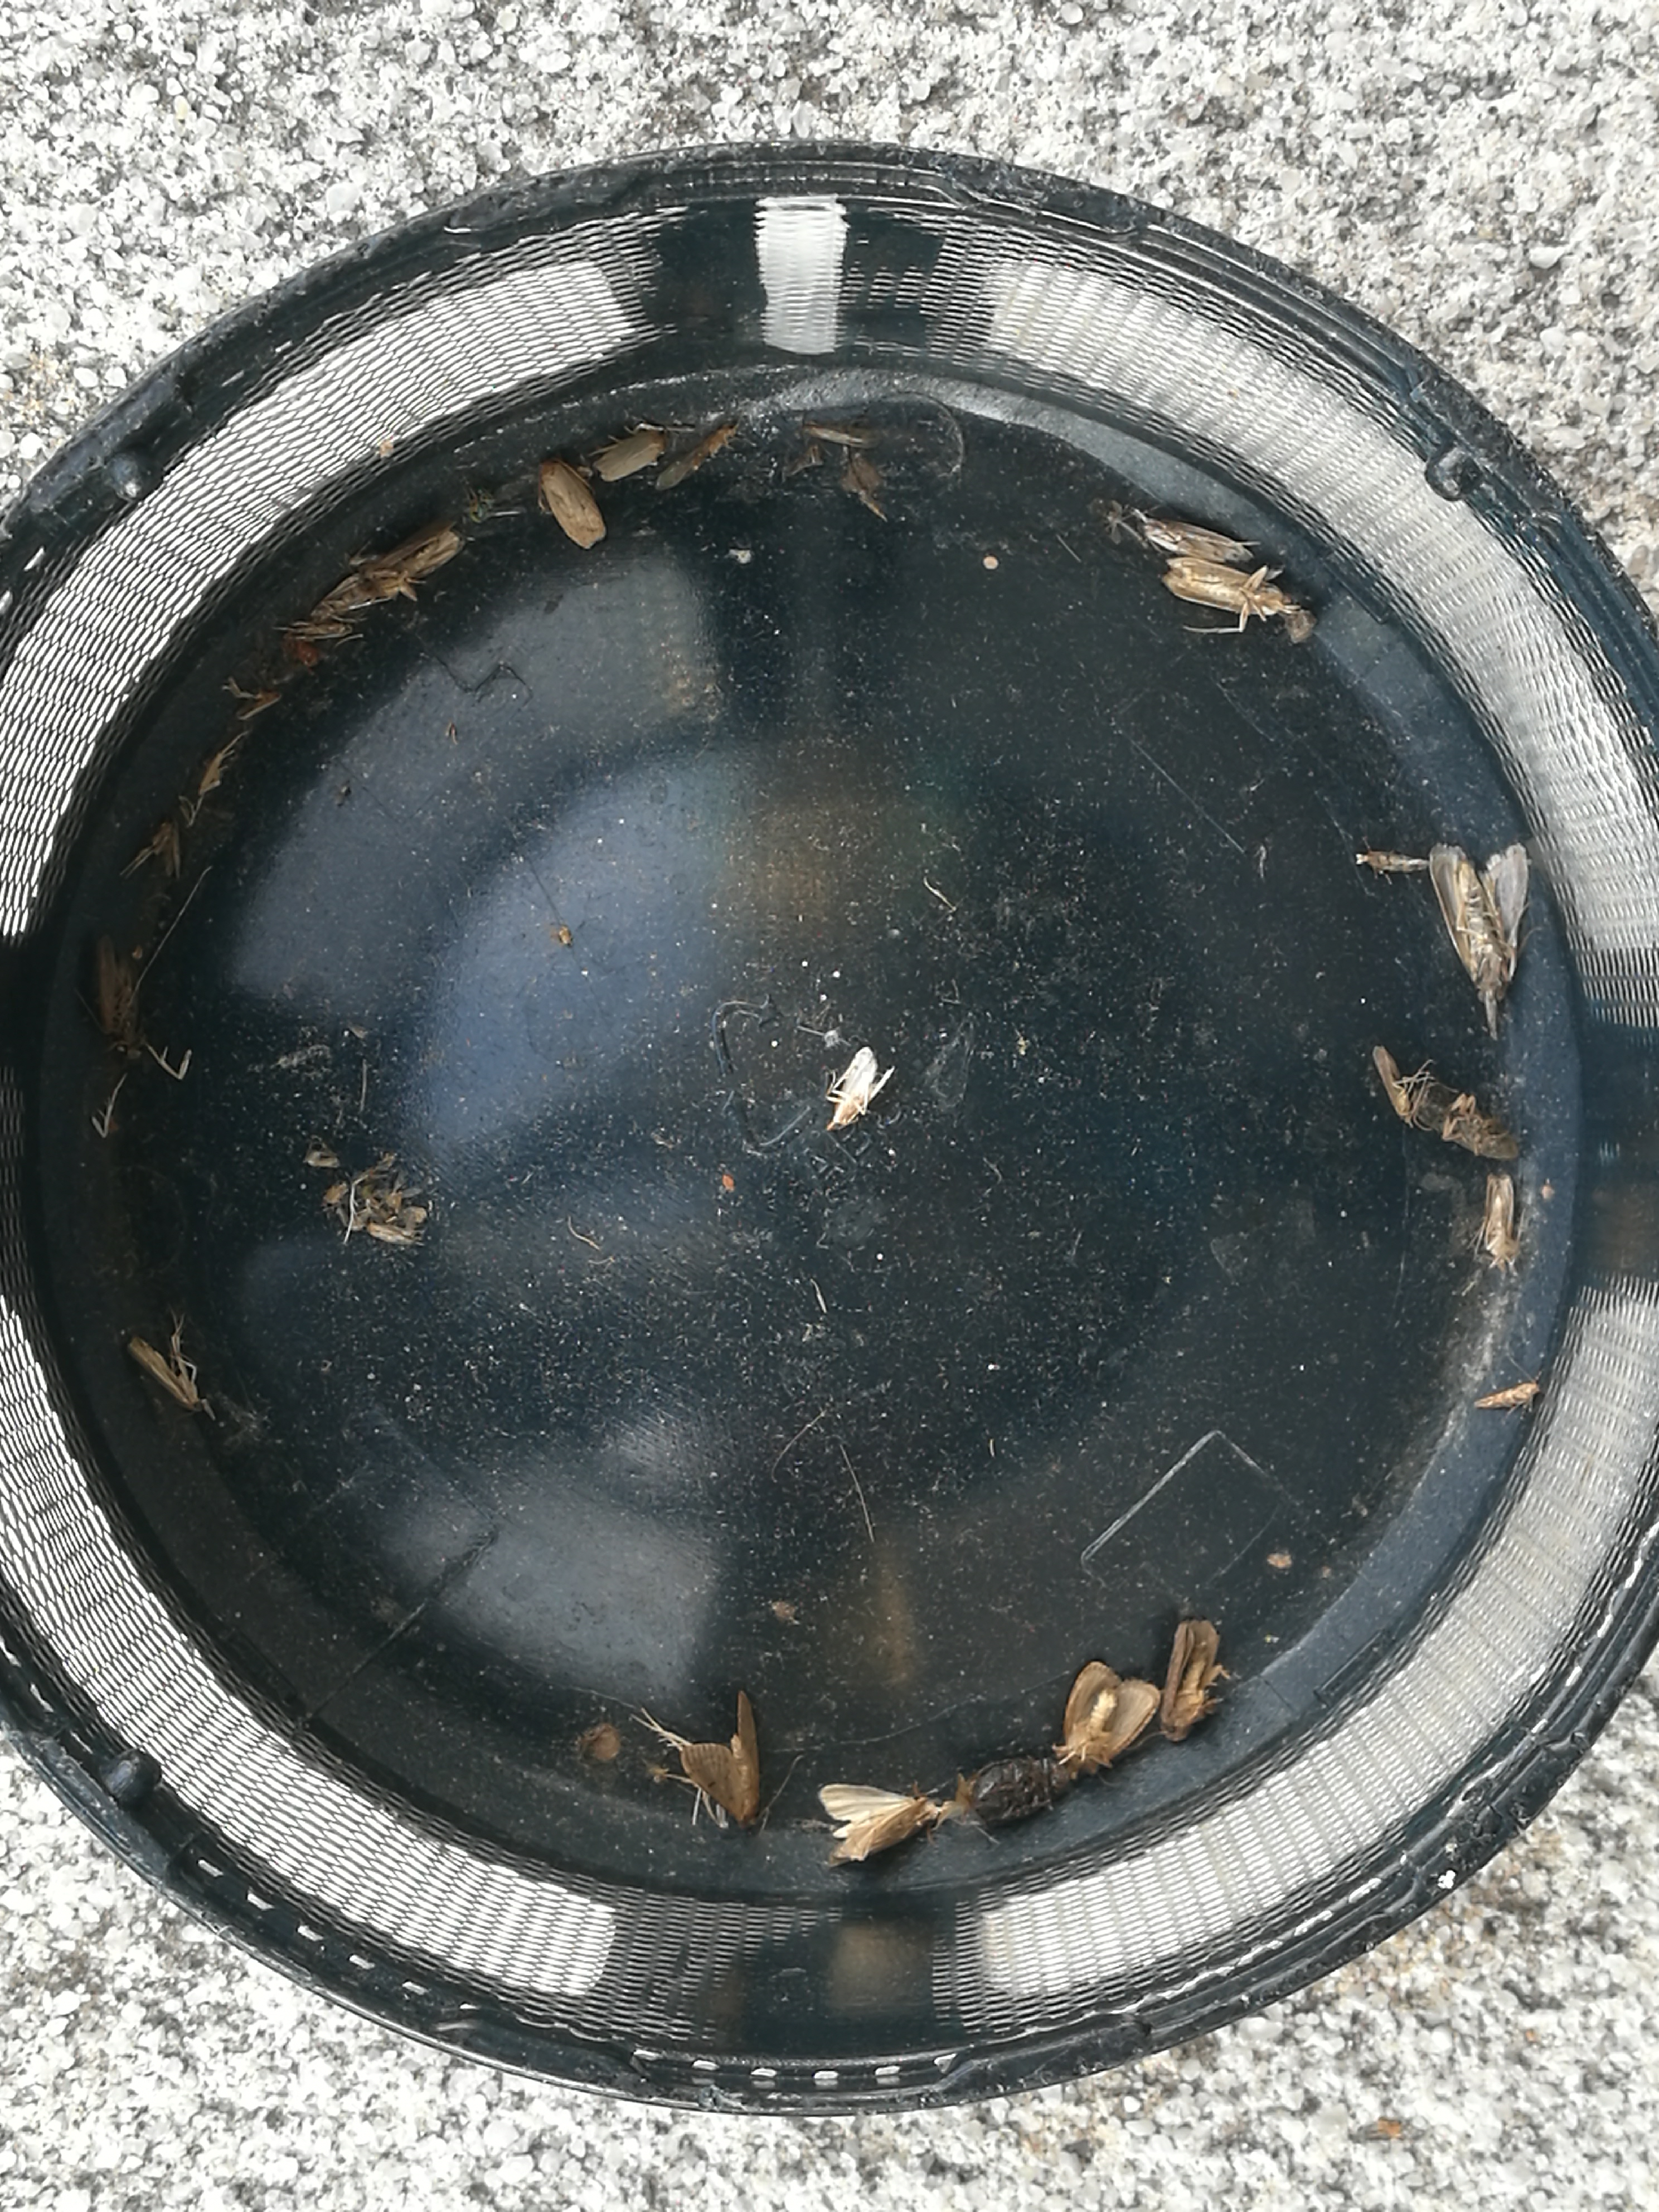mosquito: (1168, 563, 1284, 615), (129, 1336, 202, 1409), (657, 423, 735, 486), (1143, 521, 1256, 561), (828, 1049, 875, 1129), (1375, 1045, 1412, 1120), (1486, 1174, 1514, 1258), (1473, 1381, 1537, 1409), (1356, 852, 1424, 874)
moth: (1429, 843, 1527, 998), (1063, 1662, 1161, 1778), (685, 1691, 760, 1827), (819, 1784, 932, 1865), (359, 517, 464, 597), (1161, 1618, 1220, 1742), (538, 460, 603, 550), (599, 428, 667, 479)
